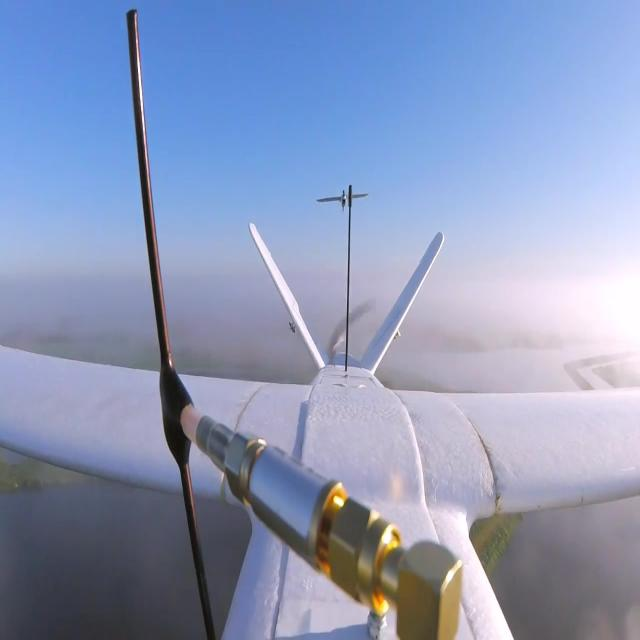iha: (316, 183, 370, 208)
